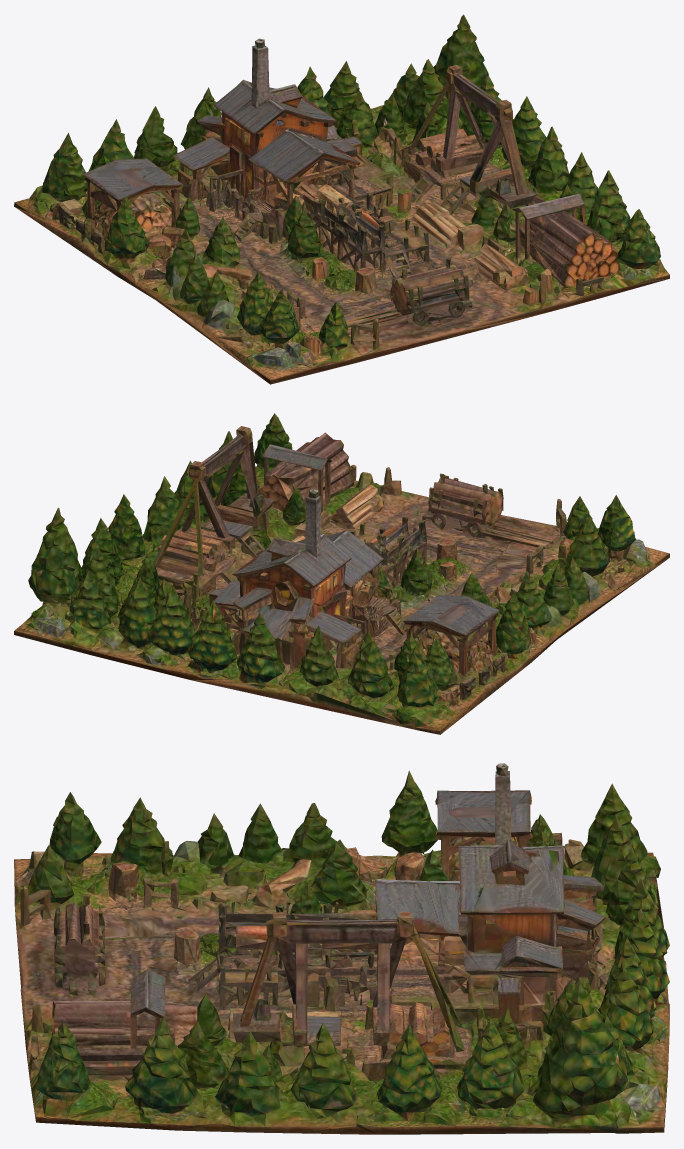
The model's file is forest.glb.
3 views of the same model, one above another, from view 1: azimuth 30°, elevation 25°; view 2: azimuth 150°, elevation 25°; view 3: azimuth 270°, elevation 25° (orthographic). The views are drawn at different scales.
Visible parts, largest first — view 1: normalize; view 2: normalize; view 3: normalize.
Boxes of the visible parts, x1=… form: normalize: x1=14, y1=14, x2=669, y2=384; normalize: x1=14, y1=413, x2=669, y2=734; normalize: x1=14, y1=763, x2=669, y2=1134.
Size of the model in its own units: 1 by 0.3503 by 0.9847.
1 material, 1 textured.
